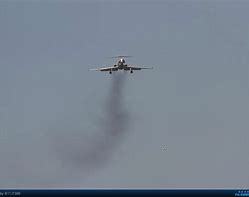smoke: (104, 73, 132, 152)
